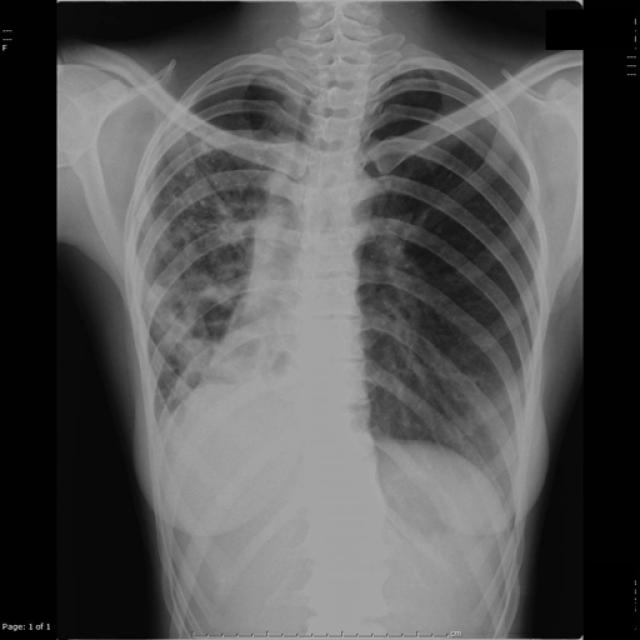tuberculosis: (56, 0, 586, 640)
